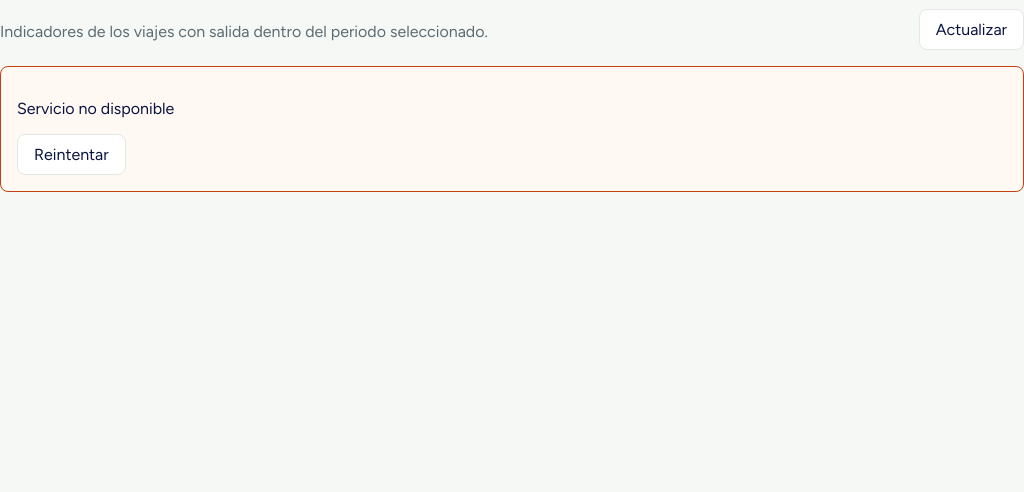
Test: dashboard con datos reales › presenta error y permite recuperar sin sustituirlo por datos de ejemplo
The image size is (1024, 492).
Expected: the message shows "Servicio no disponible", x1=17 y1=99 x2=174 y2=118
Click the button "Reintentar": (71, 154) x1=17 y1=134 x2=126 y2=175
(page scrolled)
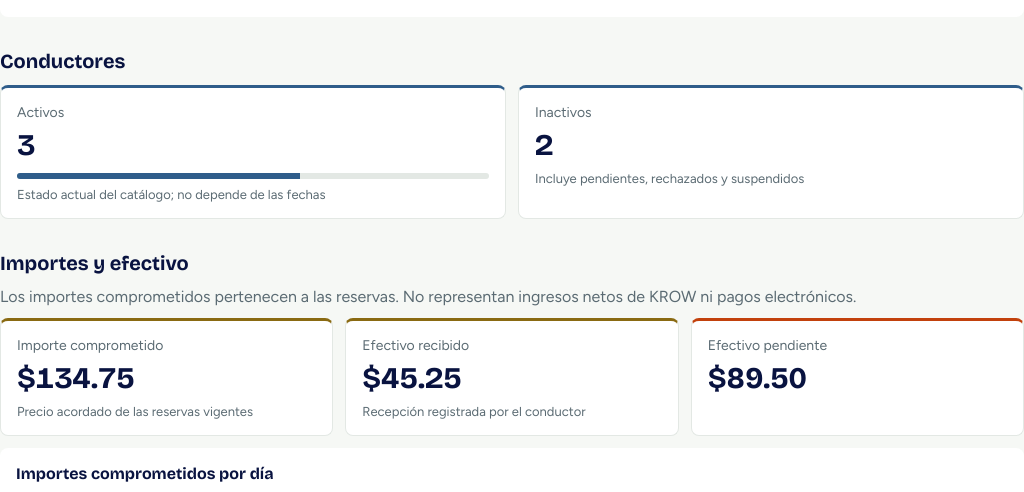
Expected: the heading "Importes y efectivo" is shown, x1=0 y1=251 x2=189 y2=275
